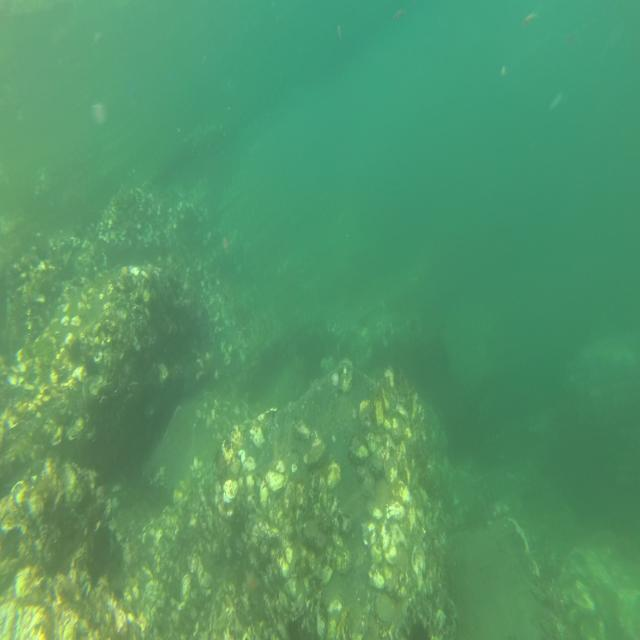echinus: (286, 615, 312, 640), (408, 617, 430, 640)
